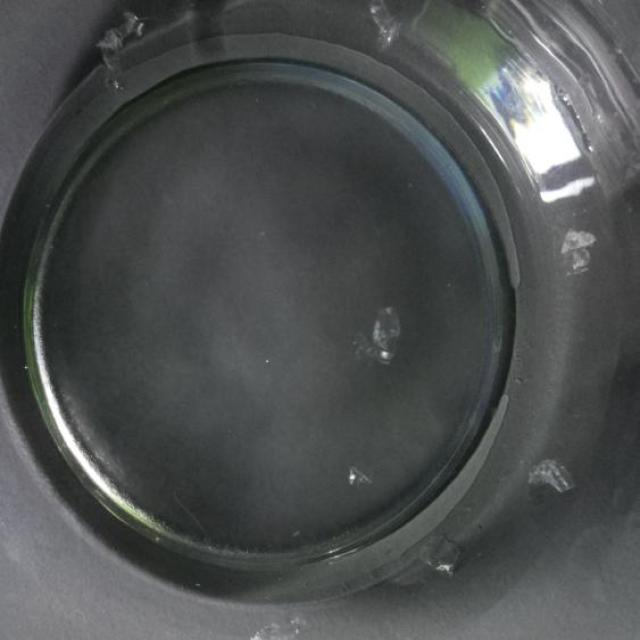fiber: (88, 11, 148, 98), (352, 294, 404, 370), (550, 218, 601, 280), (522, 454, 580, 501), (417, 531, 465, 574), (340, 461, 380, 491)
